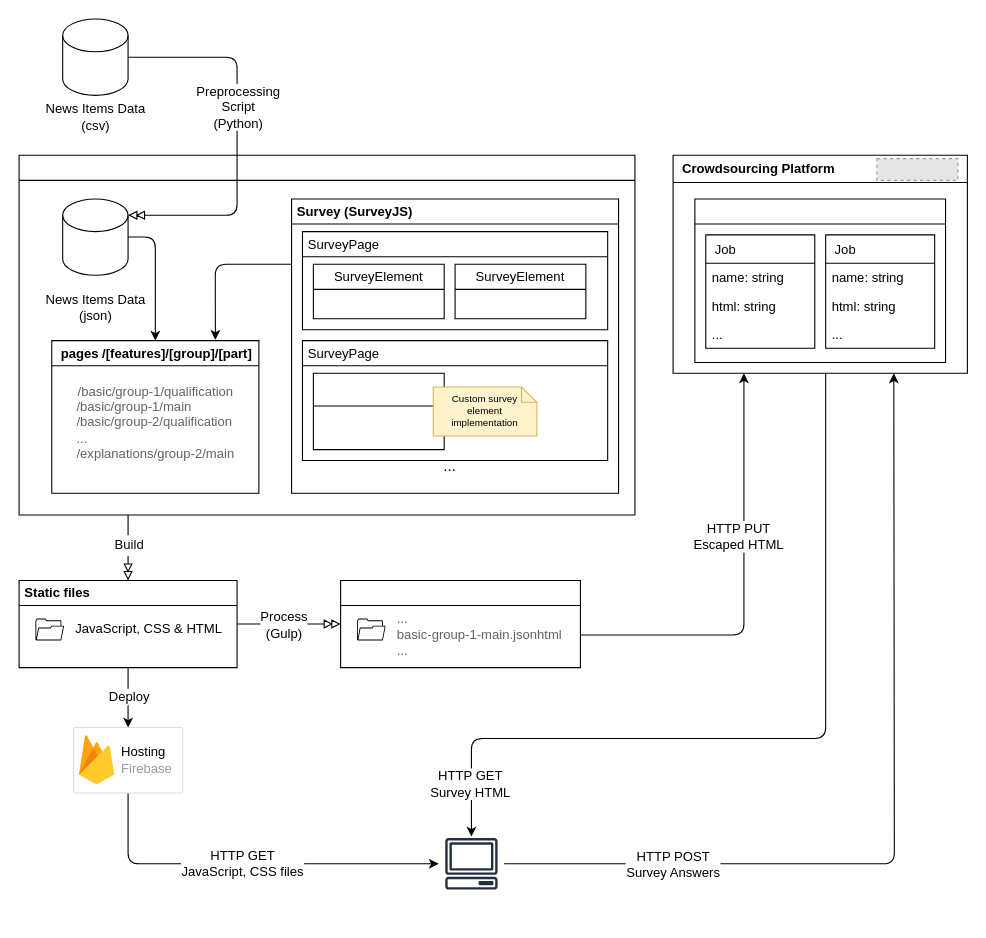
This 986x938 diagram has some shape labels left out. Grey dashed boxes stand in for pictures. The shapes that lost their labels are listed below. From the top down, each one's box as (x1, y1, x2, y2) in pixels, then its label:
(694, 198, 946, 362): Jobs
(18, 154, 635, 515): Web App (NextJS)
(312, 372, 444, 450): NewsItemQuestion : SurveyElement
(340, 579, 580, 668): Escaped HTML files
(438, 830, 504, 897): Participant
